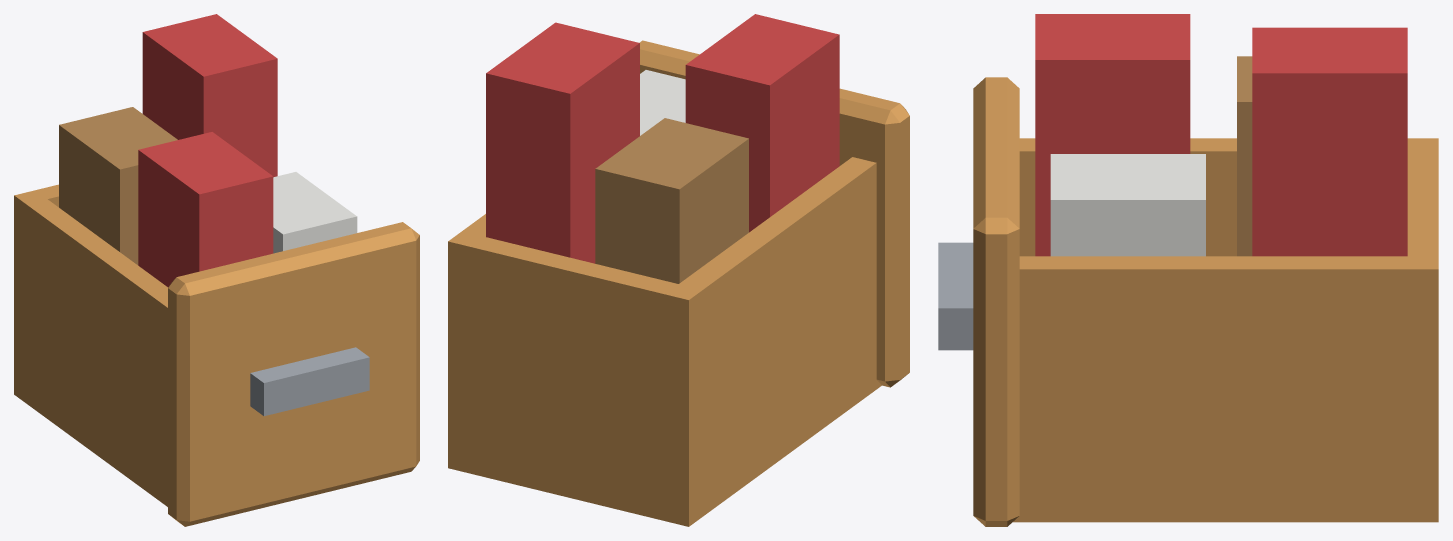
File: thumbtacks_m1_1.glb
3 views of the same model, side by side, from view 1: azimuth 30°, elevation 25°; view 2: azimuth 150°, elevation 25°; view 3: azimuth 270°, elevation 25° (orthographic). The views are drawn at different scales.
Parts seen in each view (by area): view 1: thumbtacks_m1_1_mesh; view 2: thumbtacks_m1_1_mesh; view 3: thumbtacks_m1_1_mesh.
Part boxes in pixels (bbox=[...]): thumbtacks_m1_1_mesh: bbox=[14, 14, 419, 526]; thumbtacks_m1_1_mesh: bbox=[448, 14, 909, 526]; thumbtacks_m1_1_mesh: bbox=[938, 14, 1438, 526].
Bounding box in the file's own units: 0.23 × 0.31 × 0.3225.
